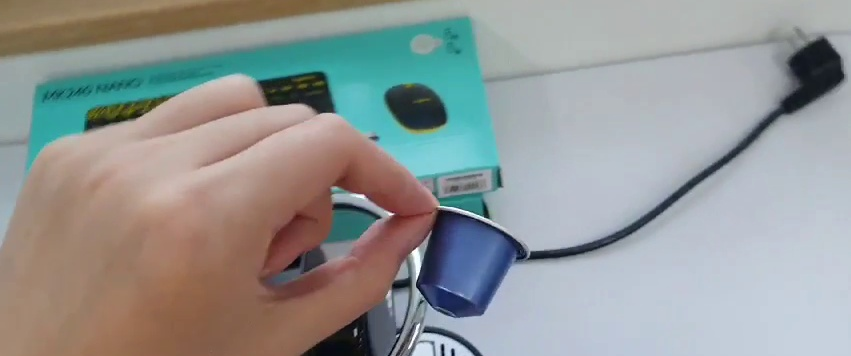capsule_7: (413, 204, 535, 321)
